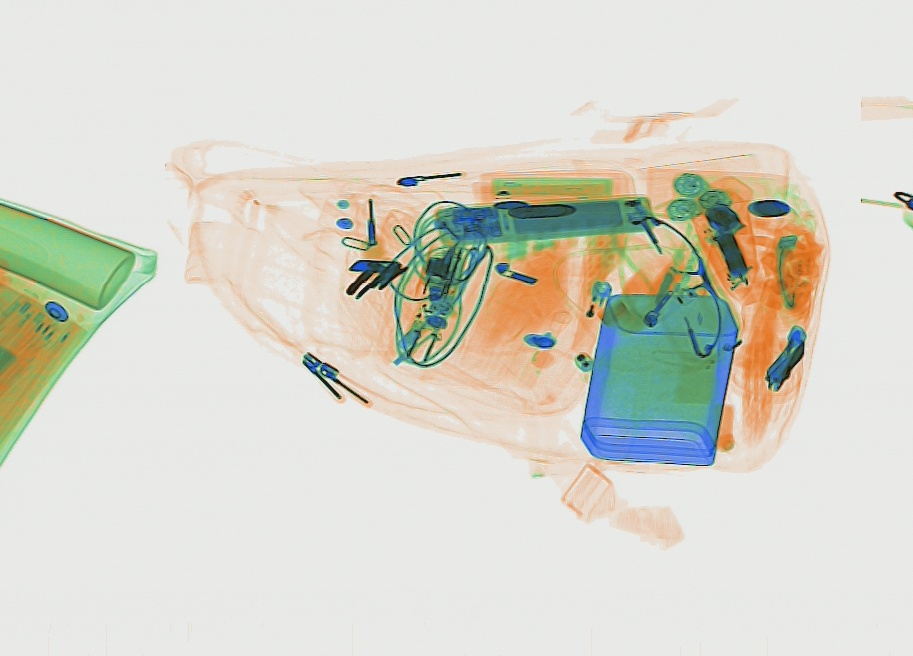lighter: (566, 277, 611, 360)
